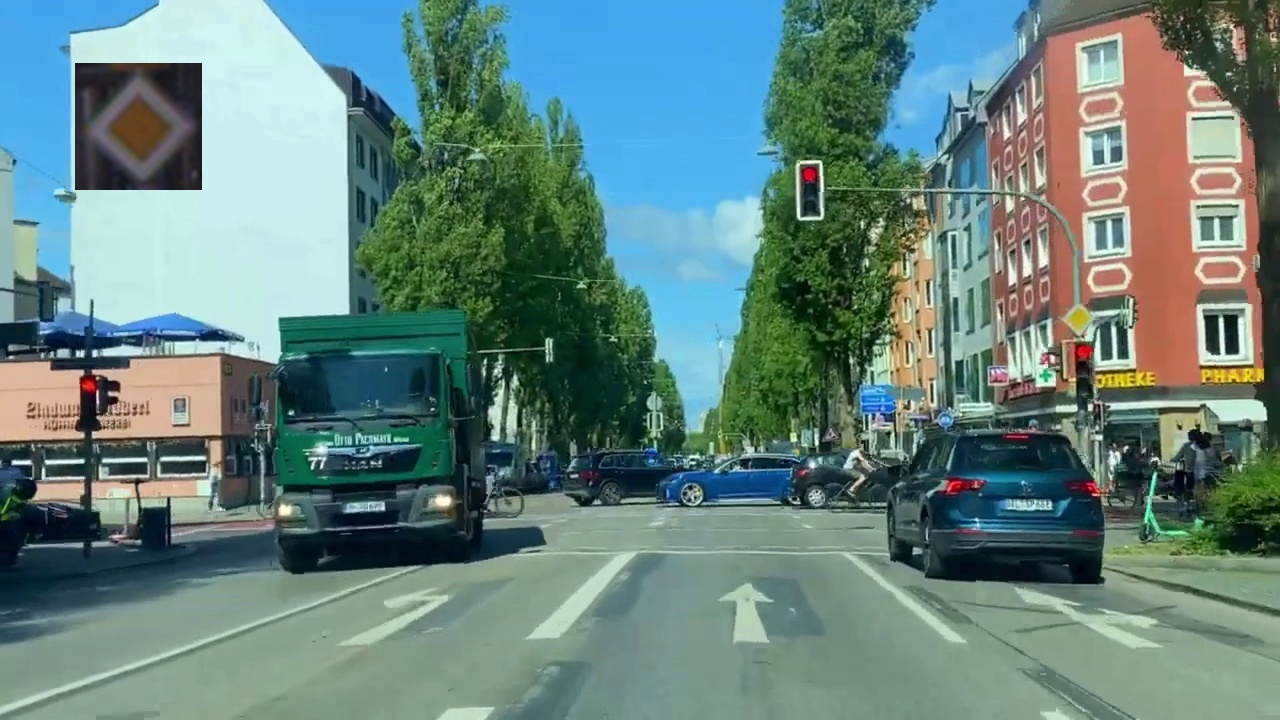Priority road: (75, 63, 202, 190)
